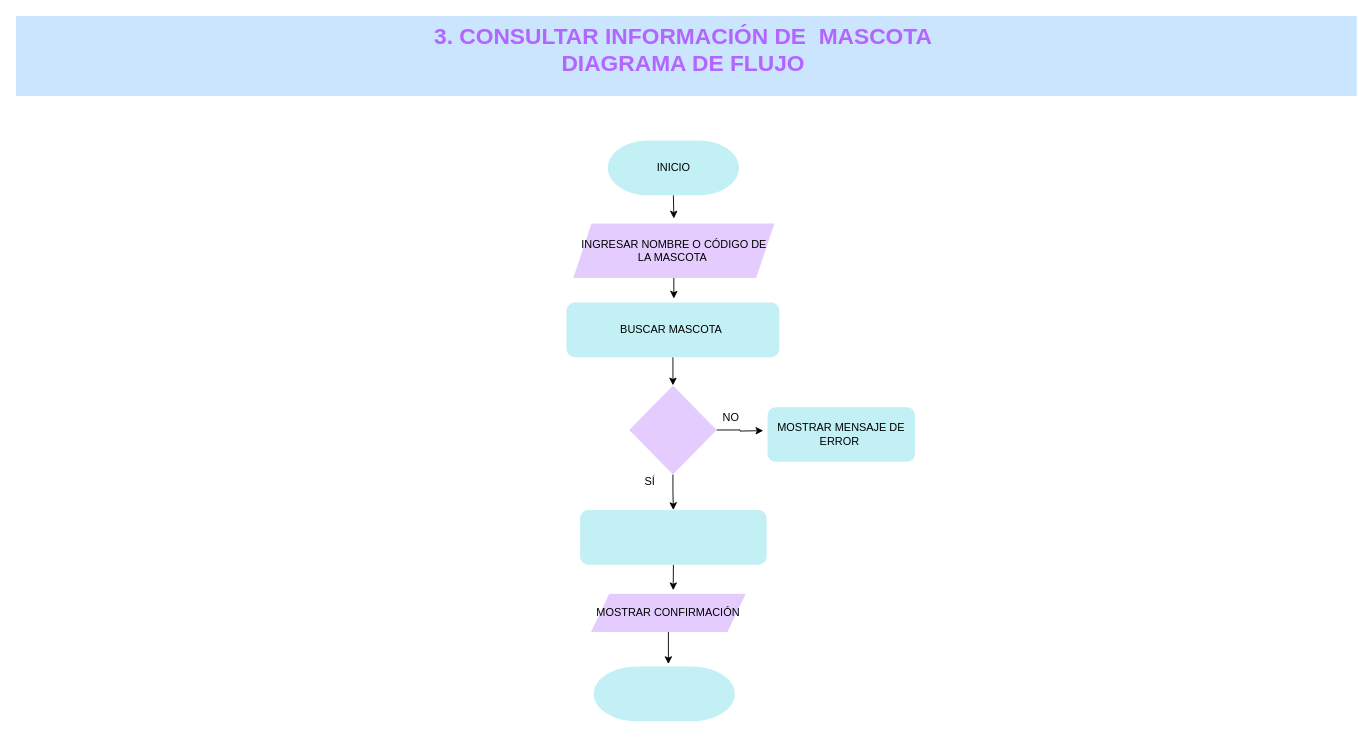
Image size: 1372x736. Some labels were removed from this diagram. The centre of each missing label's shape, as x and y in pixels:
"DATOS VÁLIDOS?" goes at point 672,429.
"FIN" goes at point 663,693.
"GUARDAR ,MASCOTA EN EL SISTEMA" goes at point 673,537.
